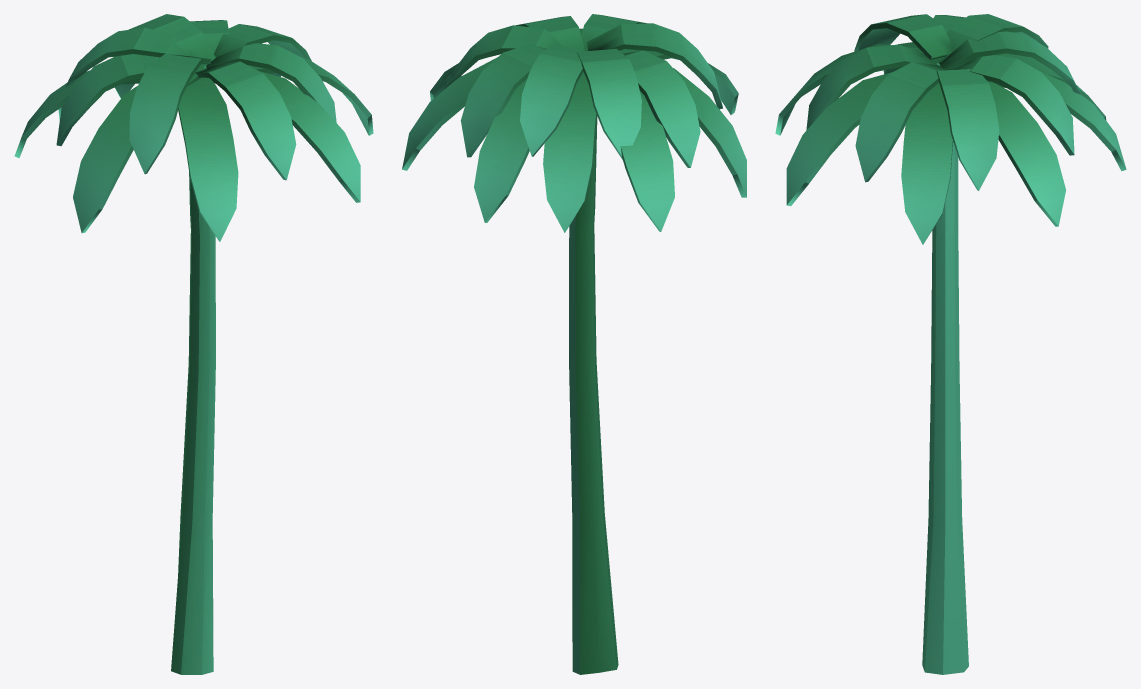
Rendered from KM_PalmTree1.FBX.
The picture shows the model from 3 angles, left to right: view 1: azimuth 30°, elevation 25°; view 2: azimuth 150°, elevation 25°; view 3: azimuth 270°, elevation 25°; orthographic projection.
Visible parts, largest first — view 1: Box023; view 2: Box023; view 3: Box023.
Part boxes in pixels (bbox=[...]): Box023: bbox=[14, 14, 373, 674]; Box023: bbox=[402, 14, 746, 674]; Box023: bbox=[775, 14, 1126, 674].
Bounding box in the file's own units: 1.19 × 2.36 × 1.19.
